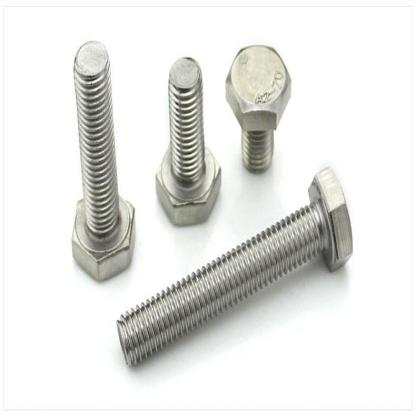FOD: (112, 164, 354, 370), (64, 37, 136, 284), (155, 54, 222, 229), (224, 39, 292, 175)
